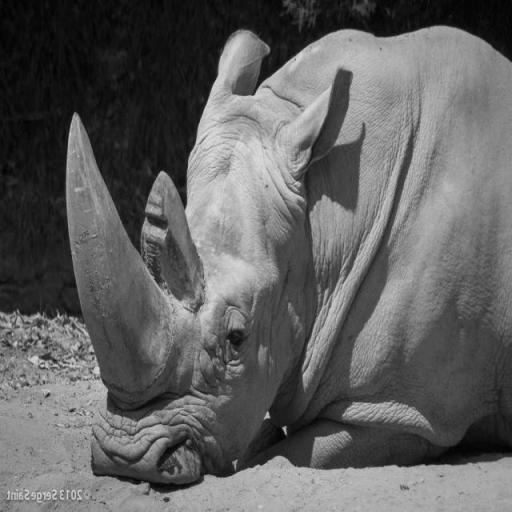Rhino: (64, 22, 511, 486)
